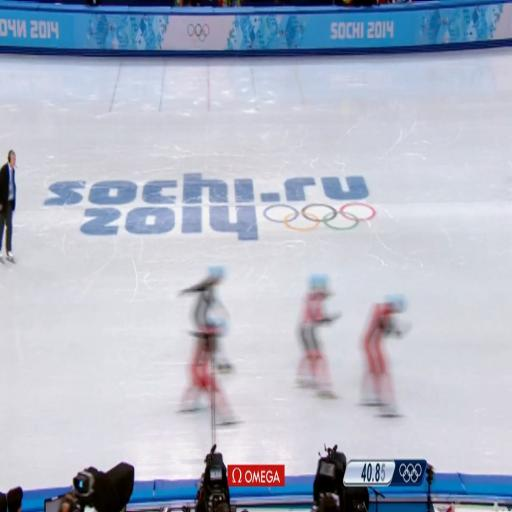Skater: (181, 267, 236, 424), (363, 295, 408, 417), (298, 275, 341, 397), (180, 266, 228, 330)
